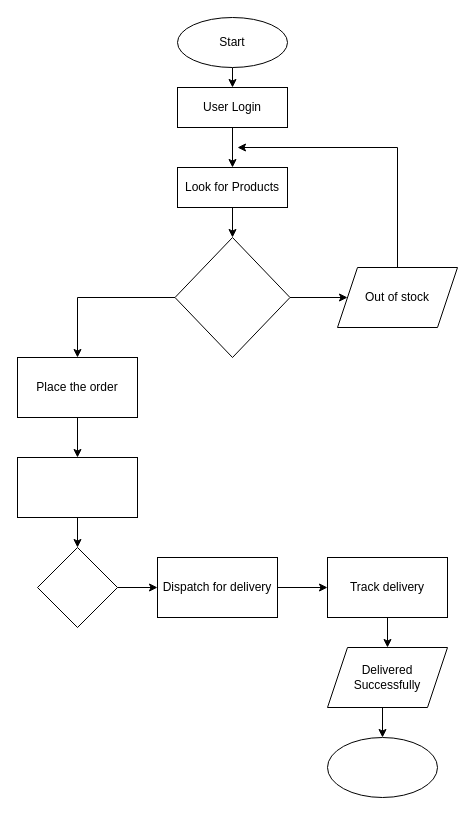
This 475x815 diagram has some shape labels left out. The shapes that lost their labels are listed below. From the top down, each one's centre as x and y in pixels, then its label:
At pixel 232 297: "Check Inventory if product is available".
At pixel 77 487: "Make Payment".
At pixel 77 587: "Verify payment".
At pixel 382 767: "End".
